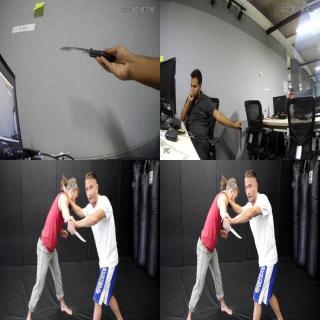knife: (56, 40, 118, 66), (64, 221, 86, 245), (220, 218, 242, 242), (238, 127, 244, 153)
